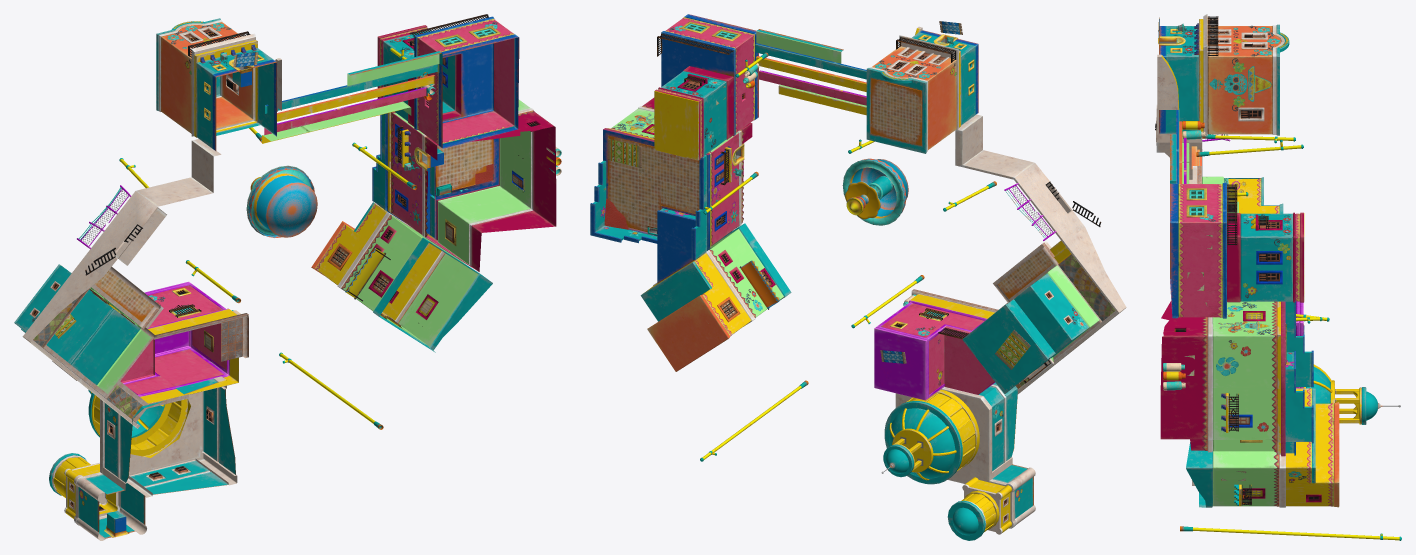
Rendered from Town000.obj.
3 renders of one model, left to right at view 1: azimuth 30°, elevation 25°; view 2: azimuth 150°, elevation 25°; view 3: azimuth 270°, elevation 25°, orthographic. The views are drawn at different scales.
Parts seen in each view (by area): view 1: house__WallClayColor01_rep, pCube20__WallClayColor00_rep, kabe2__WallClayColor04_rep, house49__WallClayColor03_rep, house74__WallClayColor02_rep, house81__HouseMultiSet00, house74__WallClayColor05_rep, kadan40__WallClayColor07_rep, Low16__TileStoneRooftop00, group445_pSphere104__FountainStoneSymbol00, pCylinder386__WallClayColor08_rep, mesh3_low_1__FenceMetalPattern00 (+6 smaller); view 2: house__WallClayColor01_rep, pCube20__WallClayColor00_rep, house74__WallClayColor02_rep, Low16__TileStoneRooftop00, house49__WallClayColor03_rep, kadan40__WallClayColor07_rep, pCylinder386__WallClayColor08_rep, kabe2__WallClayColor04_rep, pCylinder555__WallClayColor06_rep, mesh3_low_1__FenceMetalPattern00, house81__HouseMultiSet00, line1__MarkPaintSet00 (+7 smaller); view 3: house__WallClayColor01_rep, kabe2__WallClayColor04_rep, line1__MarkPaintSet00, house74__WallClayColor05_rep, house74__WallClayColor02_rep, kadan40__WallClayColor07_rep, house49__WallClayColor03_rep, house81__HouseMultiSet00, mesh3_low_1__FenceMetalPattern00, pCube20__WallClayColor00_rep, polySurface2287_1__HouseMultiSet01, pCylinder386__WallClayColor08_rep (+4 smaller).
Boxes of the visible parts, bbox=[...] form: house__WallClayColor01_rep: bbox=[14, 18, 493, 536]; pCube20__WallClayColor00_rep: bbox=[22, 20, 533, 540]; kabe2__WallClayColor04_rep: bbox=[90, 54, 530, 393]; house49__WallClayColor03_rep: bbox=[120, 20, 514, 394]; house74__WallClayColor02_rep: bbox=[53, 40, 524, 518]; house81__HouseMultiSet00: bbox=[33, 26, 537, 538]; house74__WallClayColor05_rep: bbox=[368, 25, 556, 271]; kadan40__WallClayColor07_rep: bbox=[161, 22, 435, 275]; Low16__TileStoneRooftop00: bbox=[29, 138, 499, 511]; group445_pSphere104__FountainStoneSymbol00: bbox=[246, 165, 317, 237]; pCylinder386__WallClayColor08_rep: bbox=[115, 16, 494, 532]; mesh3_low_1__FenceMetalPattern00: bbox=[78, 14, 538, 429]; house__WallClayColor01_rep: bbox=[593, 32, 1089, 540]; pCube20__WallClayColor00_rep: bbox=[638, 26, 1126, 534]; house74__WallClayColor02_rep: bbox=[607, 28, 1071, 532]; Low16__TileStoneRooftop00: bbox=[603, 78, 1072, 523]; house49__WallClayColor03_rep: bbox=[659, 18, 994, 394]; kadan40__WallClayColor07_rep: bbox=[647, 46, 1071, 371]; pCylinder386__WallClayColor08_rep: bbox=[590, 31, 740, 283]; kabe2__WallClayColor04_rep: bbox=[611, 31, 1099, 361]; pCylinder555__WallClayColor06_rep: bbox=[760, 70, 1056, 400]; mesh3_low_1__FenceMetalPattern00: bbox=[647, 33, 1101, 473]; house81__HouseMultiSet00: bbox=[681, 14, 1069, 507]; line1__MarkPaintSet00: bbox=[601, 17, 1086, 501]; house__WallClayColor01_rep: bbox=[1166, 24, 1377, 507]; kabe2__WallClayColor04_rep: bbox=[1176, 134, 1277, 506]; line1__MarkPaintSet00: bbox=[1178, 25, 1333, 506]; house74__WallClayColor05_rep: bbox=[1160, 212, 1303, 450]; house74__WallClayColor02_rep: bbox=[1161, 19, 1361, 506]; kadan40__WallClayColor07_rep: bbox=[1179, 26, 1339, 507]; house49__WallClayColor03_rep: bbox=[1178, 138, 1299, 317]; house81__HouseMultiSet00: bbox=[1158, 23, 1318, 498]; mesh3_low_1__FenceMetalPattern00: bbox=[1155, 16, 1401, 540]; pCube20__WallClayColor00_rep: bbox=[1156, 14, 1380, 507]; polySurface2287_1__HouseMultiSet01: bbox=[1186, 188, 1321, 502]; pCylinder386__WallClayColor08_rep: bbox=[1222, 182, 1313, 455].
Size of the model in its own units: 7135 by 6307 by 2834.
32 materials, 27 textured.
